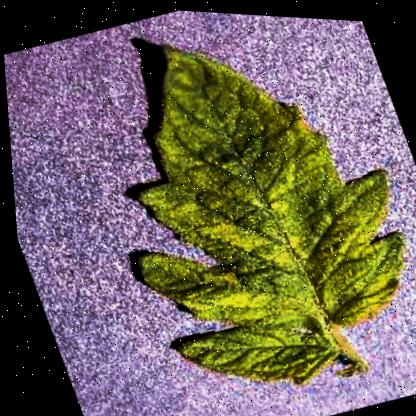Virus: (49, 2, 415, 415)
